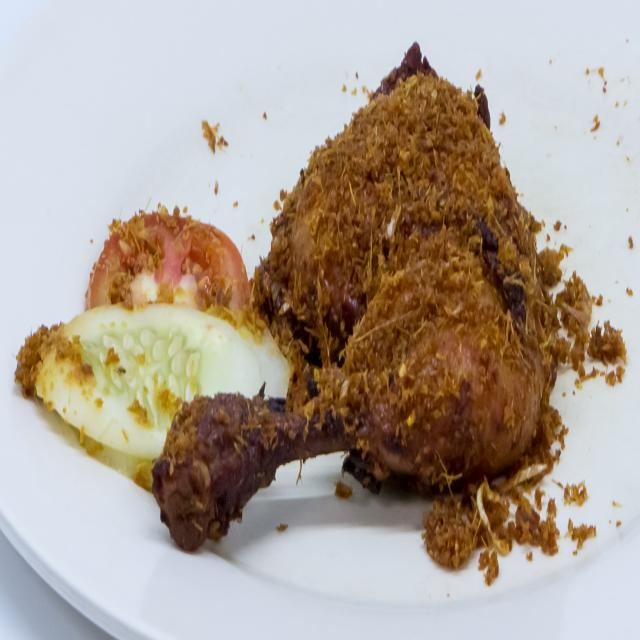Ayam-Goreng-Lengkuas: (134, 30, 573, 561)
